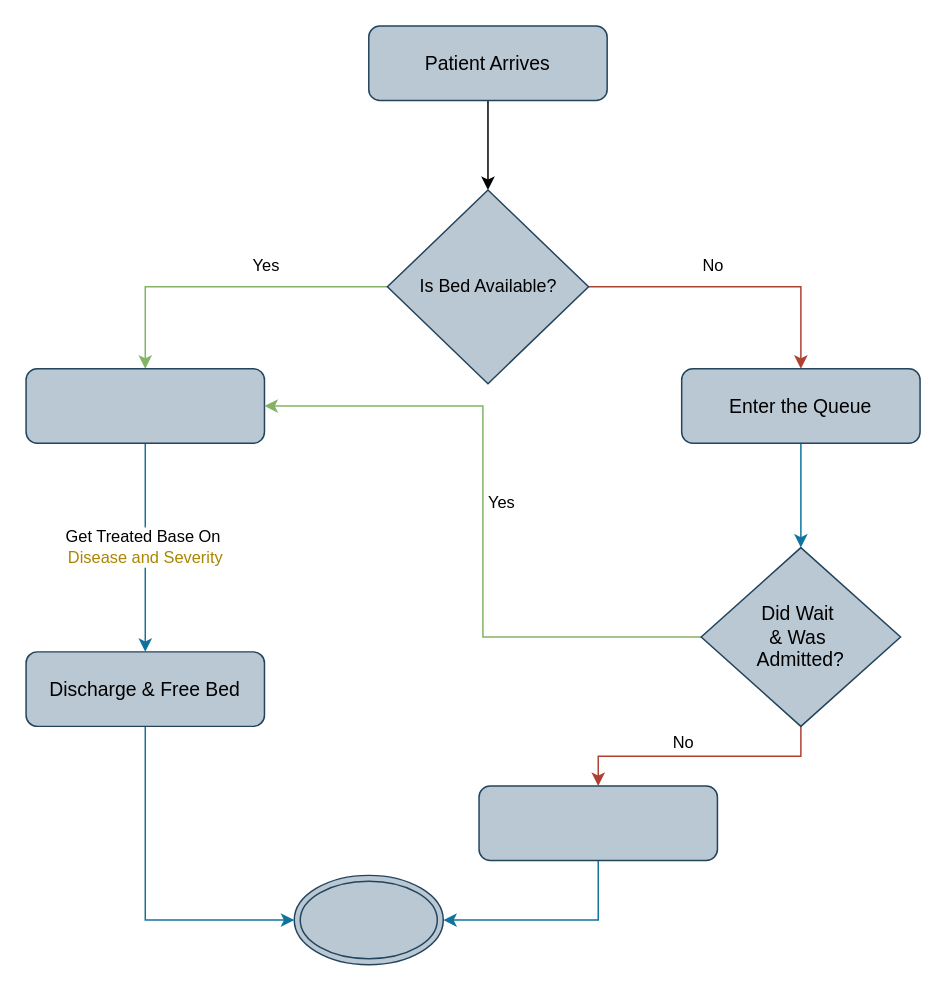
Image size: 946x991. Some labels were removed from this diagram. Each missing label, with the centre of its shape:
"Assign Random Available Bed" goes at point (144, 405).
"Attribute A Rejection Reason" goes at point (597, 822).
"END" goes at point (368, 919).
